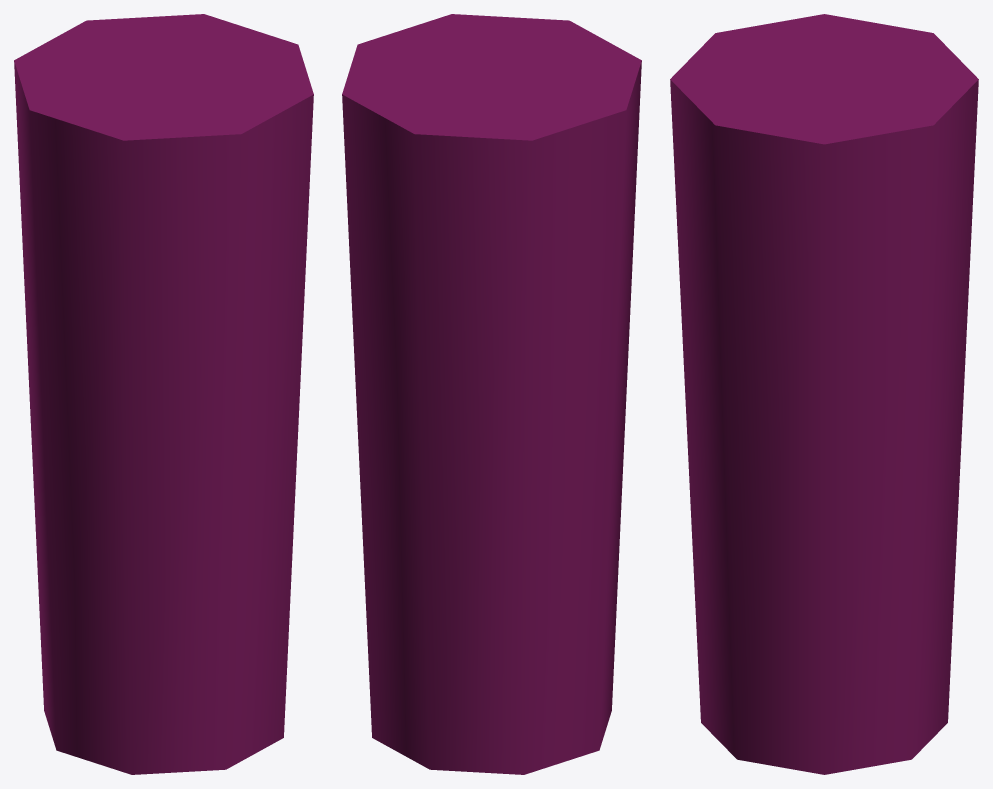
File: PFlor_Muslo.obj
3 renders of one model, left to right at view 1: azimuth 30°, elevation 25°; view 2: azimuth 150°, elevation 25°; view 3: azimuth 270°, elevation 25°, orthographic.
Parts seen in each view (by area): view 1: Muslo; view 2: Muslo; view 3: Muslo.
Part boxes in pixels (x1,y1,x2,y2): Muslo: [14, 14, 313, 774]; Muslo: [342, 14, 641, 774]; Muslo: [670, 14, 978, 774].
Size of the model in its own units: 0.1 by 0.23 by 0.1.
Materials: 1 (1 with a texture image).
